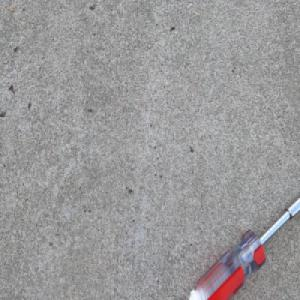Screwdriver: (185, 191, 300, 300)
